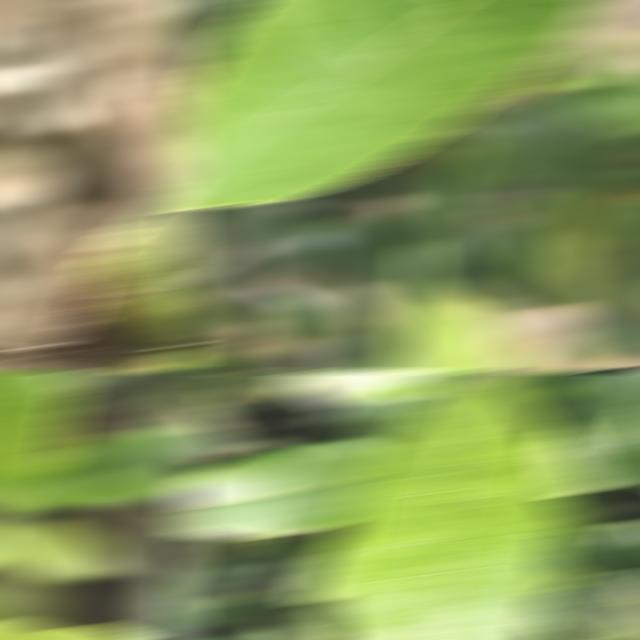Leaf: (174, 1, 604, 207), (323, 380, 570, 639), (4, 182, 196, 370), (174, 440, 395, 537), (473, 97, 639, 190), (12, 425, 196, 508), (539, 372, 640, 495), (540, 183, 625, 313), (536, 35, 640, 132), (133, 510, 196, 639), (0, 520, 126, 583), (530, 568, 640, 639), (349, 372, 448, 444), (588, 242, 640, 355), (485, 372, 581, 414), (404, 372, 490, 415), (574, 519, 640, 566), (174, 588, 244, 629), (0, 620, 151, 639), (174, 290, 210, 327)
